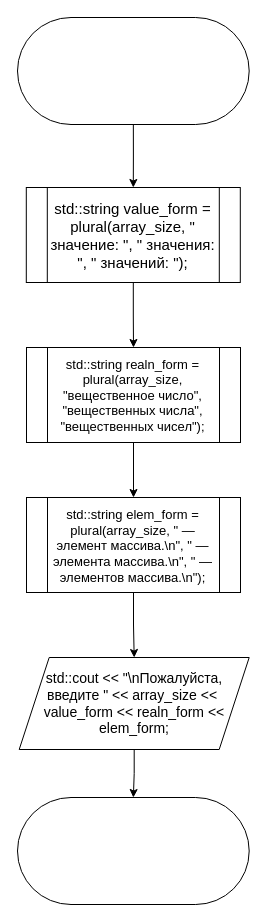
The diagram is 267 pixels wide and 922 high, and some of its shapes have lost their labels. The centre of each missing label's shape, as x and y in pixels:
void get_correct_form (const unsigned int array_size): point 132,70
Конец: point 132,850
